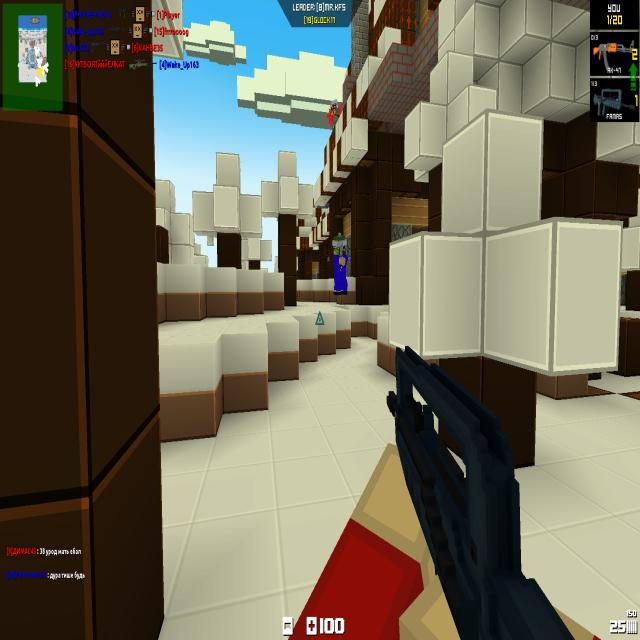enemy: (332, 231, 348, 296), (330, 98, 340, 132)
